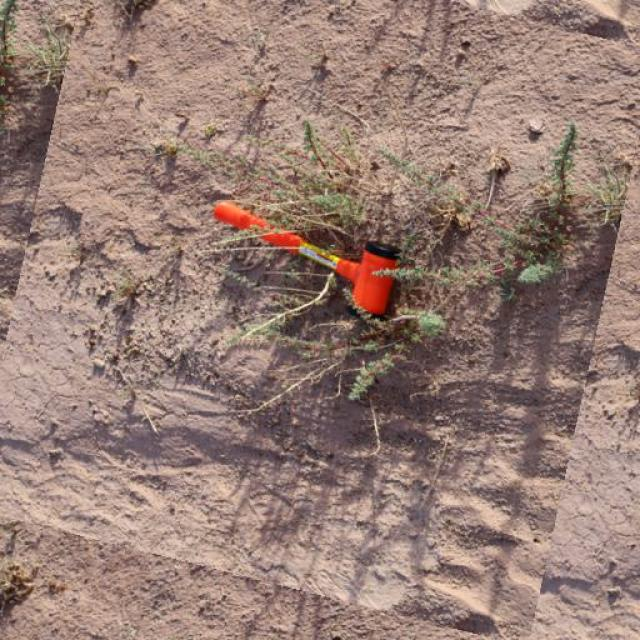mallet: (212, 198, 402, 318)
